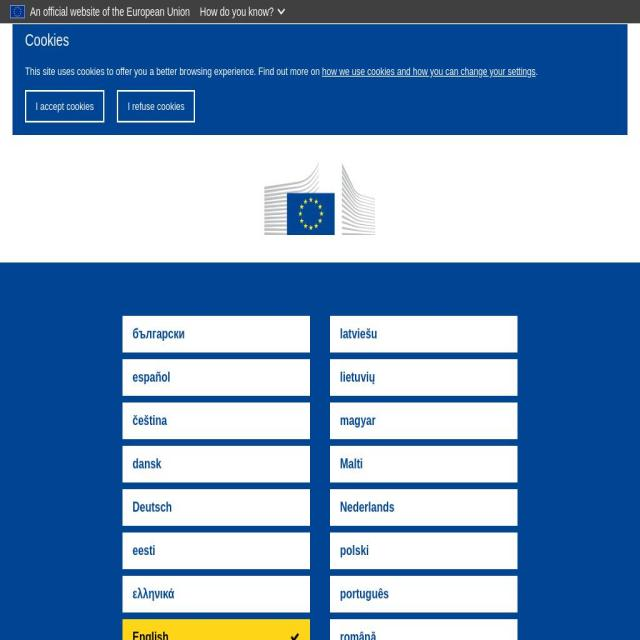button: (122, 619, 310, 640), (116, 90, 196, 122), (25, 90, 104, 122), (193, 0, 294, 23)
heading: (25, 28, 615, 52)
image: (264, 162, 376, 236)
link: (132, 369, 300, 386), (132, 499, 300, 516), (340, 369, 508, 386), (340, 499, 508, 516), (132, 326, 300, 342), (132, 413, 300, 429), (132, 456, 300, 472), (132, 543, 300, 559), (132, 586, 300, 602), (340, 326, 508, 342), (340, 413, 508, 429), (340, 456, 508, 472), (340, 543, 508, 559), (340, 586, 508, 602), (322, 65, 536, 77), (340, 629, 508, 640)
text: (25, 65, 322, 77), (30, 2, 190, 21), (132, 629, 168, 640), (536, 65, 538, 77)
